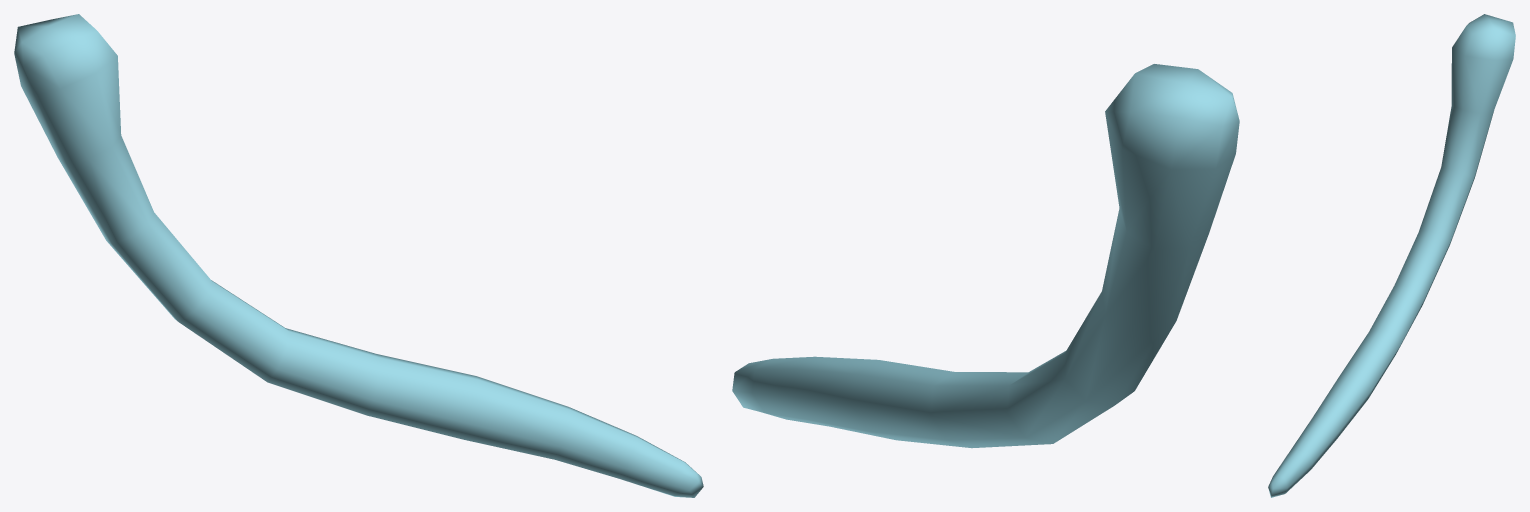
3 renders of one model, left to right at view 1: azimuth 30°, elevation 25°; view 2: azimuth 150°, elevation 25°; view 3: azimuth 270°, elevation 25°, orthographic. The views are drawn at different scales.
Visible parts, largest first — view 1: CC R6; view 2: CC R6; view 3: CC R6.
Part boxes in pixels (left/top/right/bottom): CC R6: left=14, top=14, right=703, bottom=497; CC R6: left=732, top=64, right=1239, bottom=448; CC R6: left=1268, top=14, right=1515, bottom=497.
Bounding box in the file's own units: 2.55 × 2.19 × 1.54.
